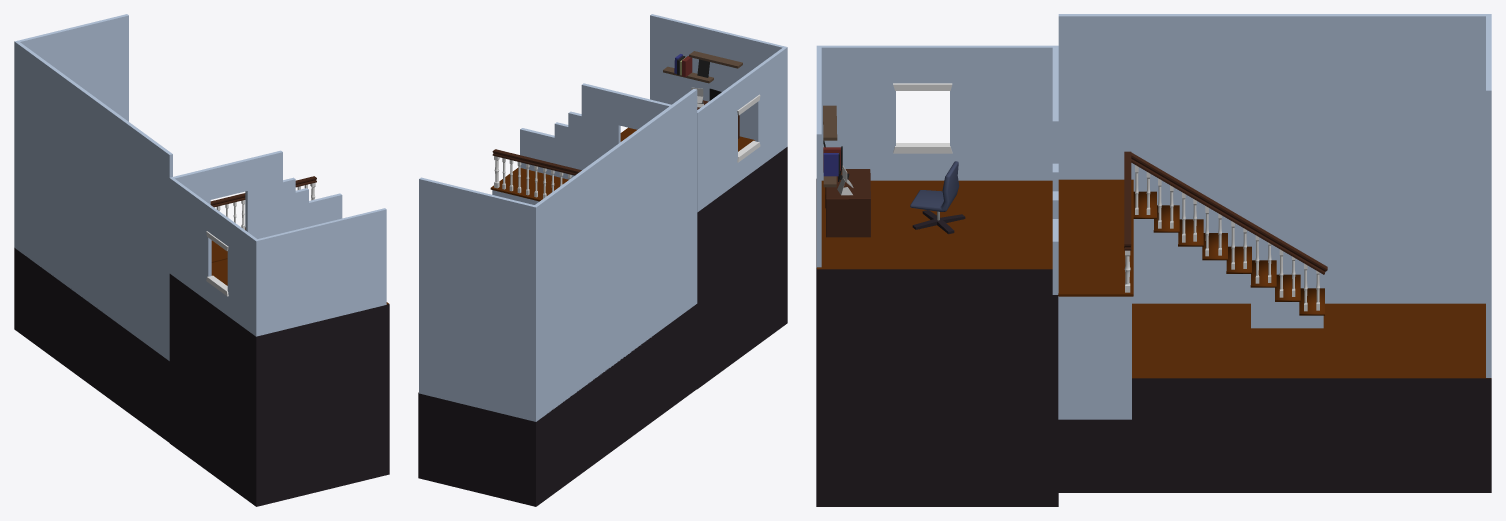
File: natehub-house.gltf
The picture shows the model from 3 angles, left to right: view 1: azimuth 30°, elevation 25°; view 2: azimuth 150°, elevation 25°; view 3: azimuth 270°, elevation 25°; orthographic projection. The views are drawn at different scales.
Visible parts, largest first — view 1: foyer-walls, office-support, office-walls, foyer-floor.001, Cube.034; view 2: foyer-walls, foyer-floor.001, office-walls, office-support, Cube.036, Cube.034; view 3: foyer-walls, office-support, foyer-floor.001, office-walls, foyer-floor, office-floor, loft-support, Cube.036, stairs, Plane.002, Cube.035, Cube.053 (+1 smaller).
Boxes of the visible parts, <box> form: foyer-walls: <box>14,14,172,360</box>; office-support: <box>169,274,389,506</box>; office-walls: <box>169,150,386,336</box>; foyer-floor.001: <box>14,247,169,442</box>; Cube.034: <box>210,176,316,207</box>; foyer-walls: <box>419,89,697,421</box>; foyer-floor.001: <box>418,304,697,506</box>; office-walls: <box>520,14,787,212</box>; office-support: <box>697,147,787,389</box>; Cube.036: <box>490,168,568,201</box>; Cube.034: <box>492,149,581,175</box>; foyer-walls: <box>1058,14,1491,377</box>; office-support: <box>816,179,1058,506</box>; foyer-floor.001: <box>1058,378,1491,492</box>; office-walls: <box>816,45,1058,294</box>; foyer-floor: <box>1132,303,1490,378</box>; office-floor: <box>817,180,1052,269</box>; loft-support: <box>1058,296,1131,419</box>; Cube.036: <box>1058,179,1133,296</box>; stairs: <box>1133,219,1323,328</box>; Plane.002: <box>825,169,870,237</box>; Cube.035: <box>1131,152,1327,274</box>; Cube.053: <box>910,161,959,211</box>.
Bounding box in the file's own units: 19.59 × 31.11 × 47.29.
